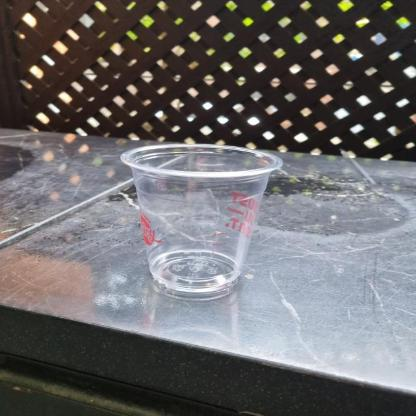Plastic Cup: (119, 144, 283, 300)
